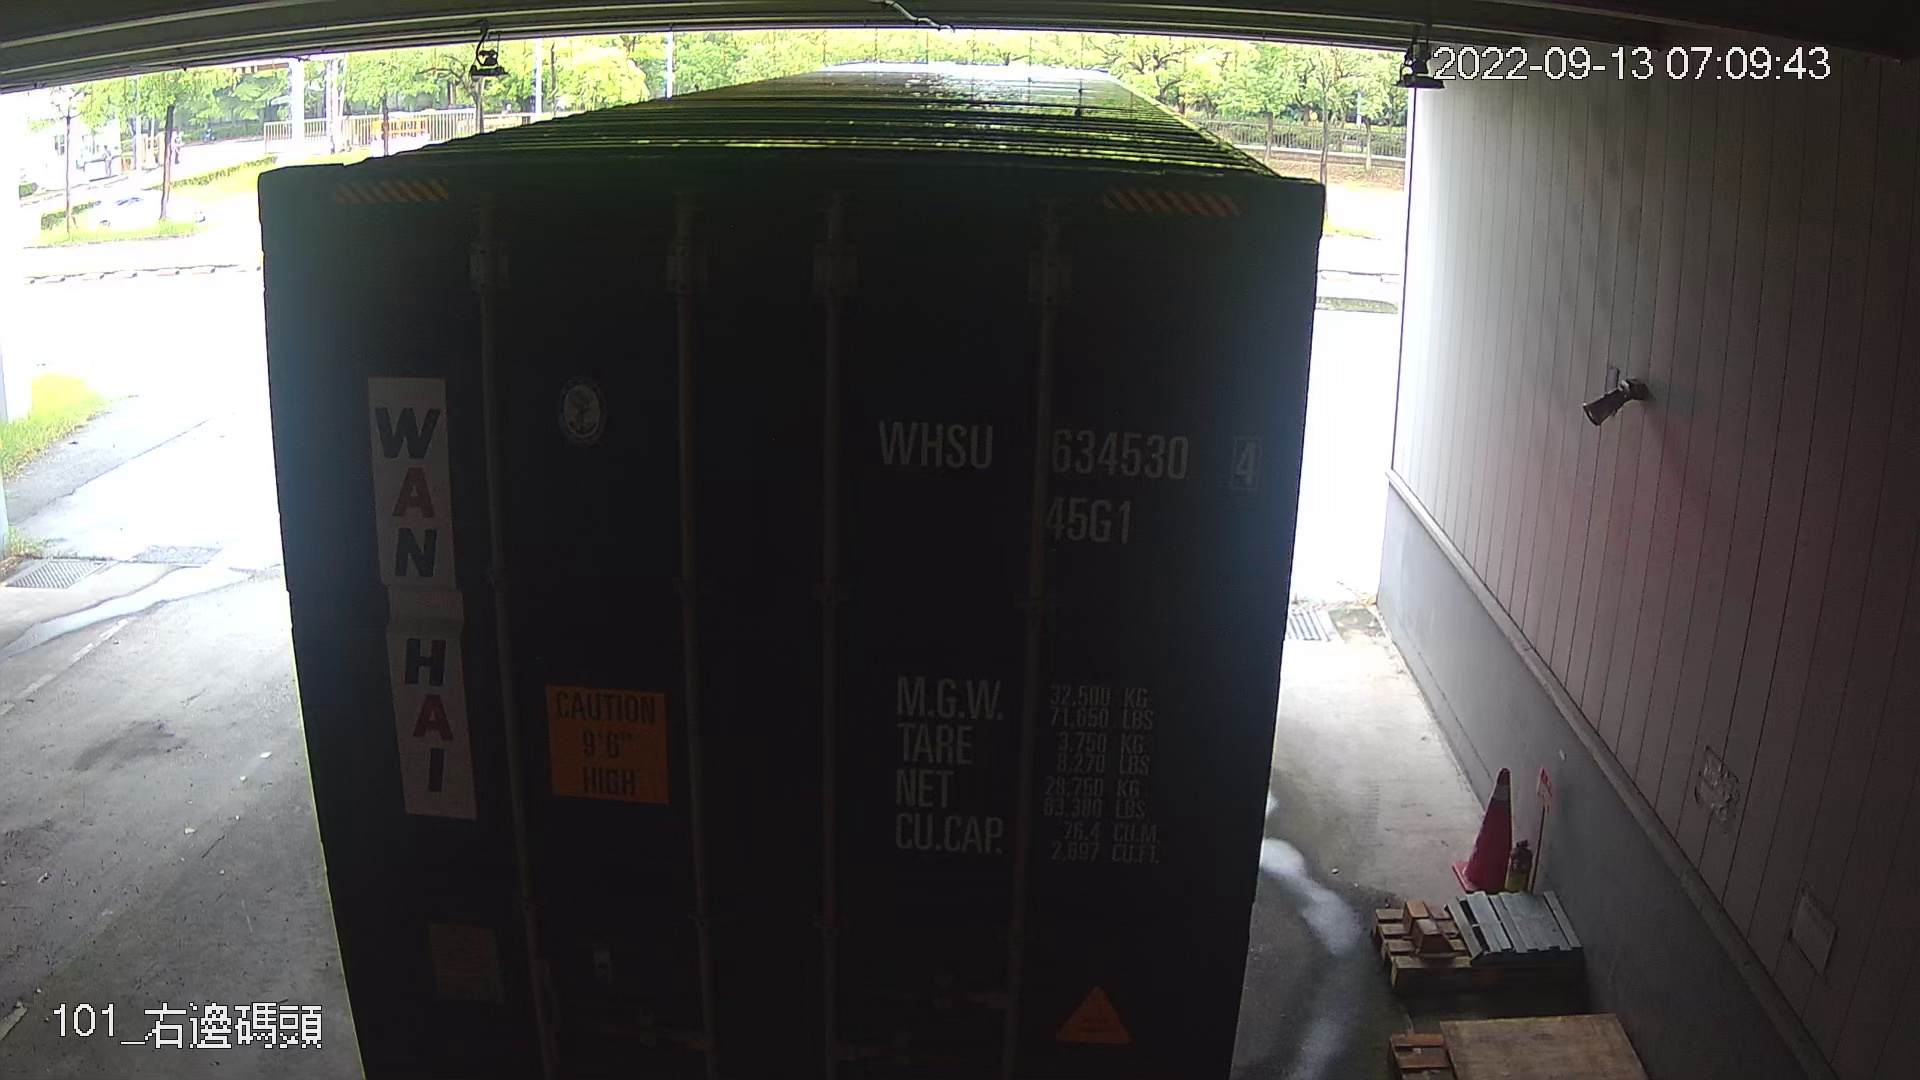container: (862, 397, 1273, 554)
